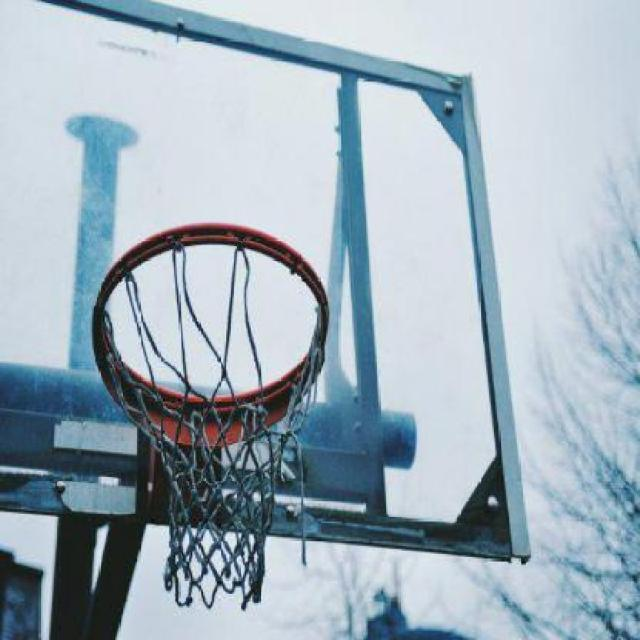rim: (91, 219, 332, 613)
